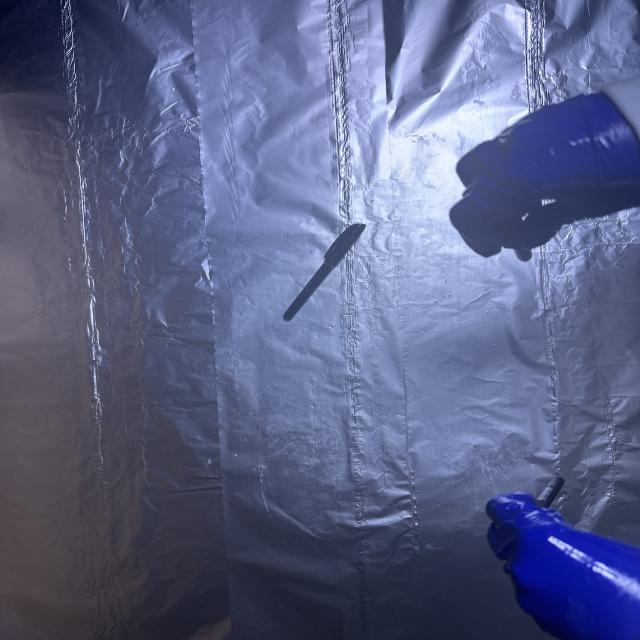gloves_contaminated: (450, 94, 640, 257), (486, 492, 640, 640), (486, 493, 640, 640)
